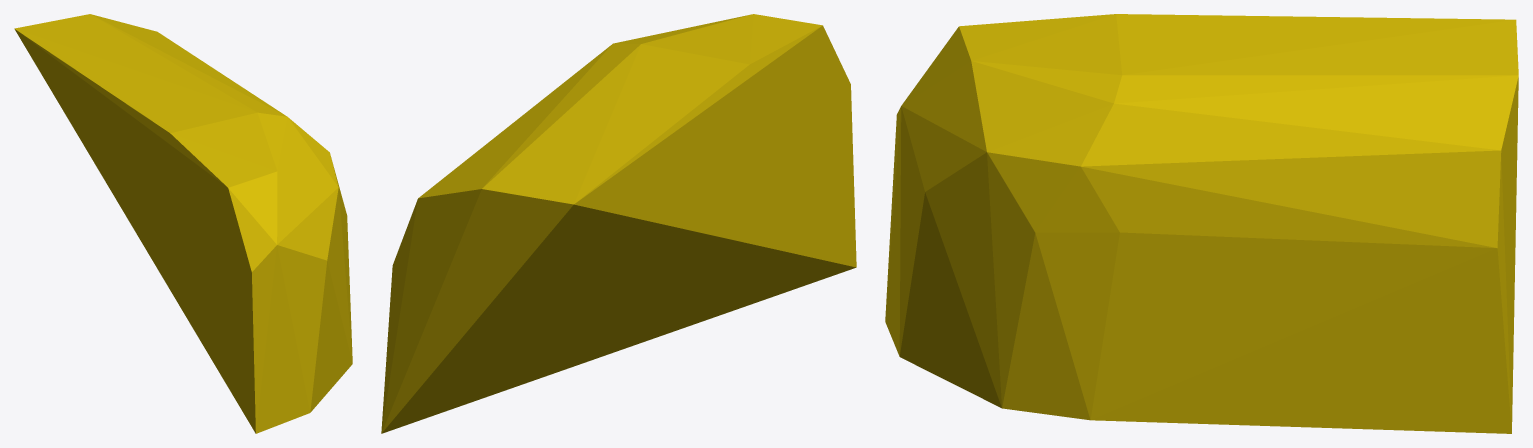
The model's file is arm-L3_convex_piece_002.obj.
3 views of the same model, side by side, from view 1: azimuth 30°, elevation 25°; view 2: azimuth 150°, elevation 25°; view 3: azimuth 270°, elevation 25° (orthographic). The views are drawn at different scales.
Size of the model in its own units: 0.0325 by 0.0456 by 0.0826.
